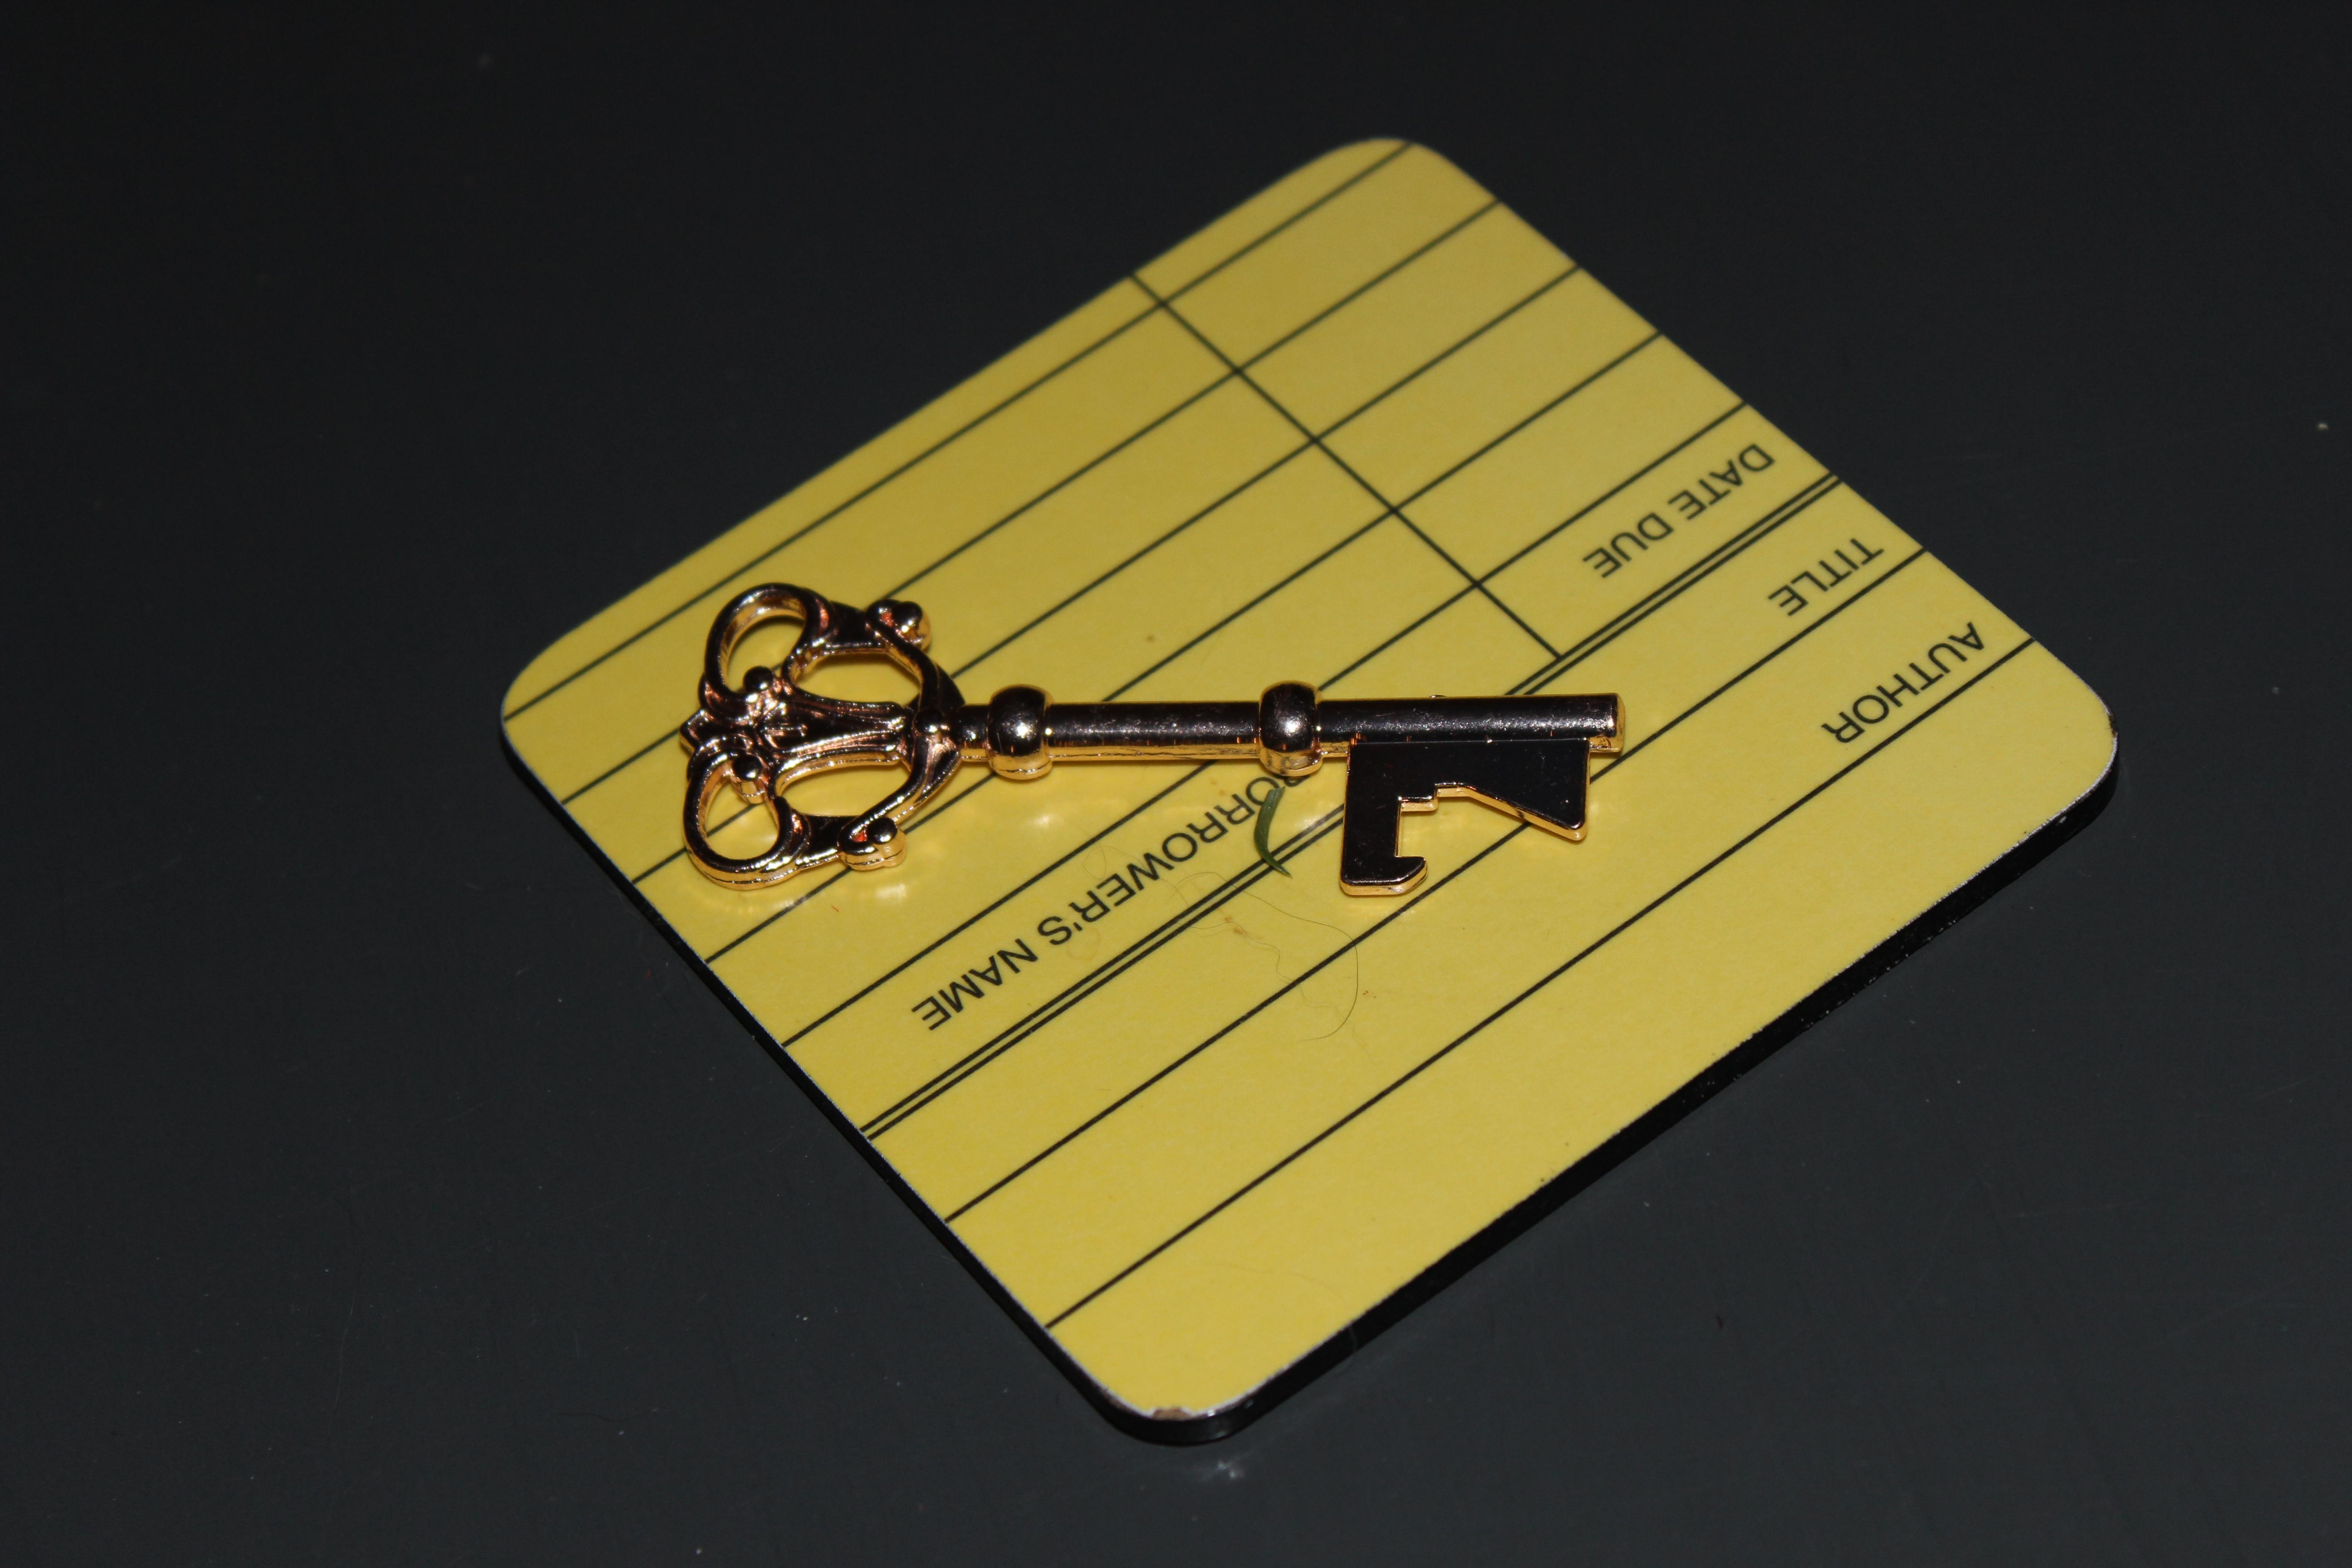metalKey: (655, 537, 1645, 980)
